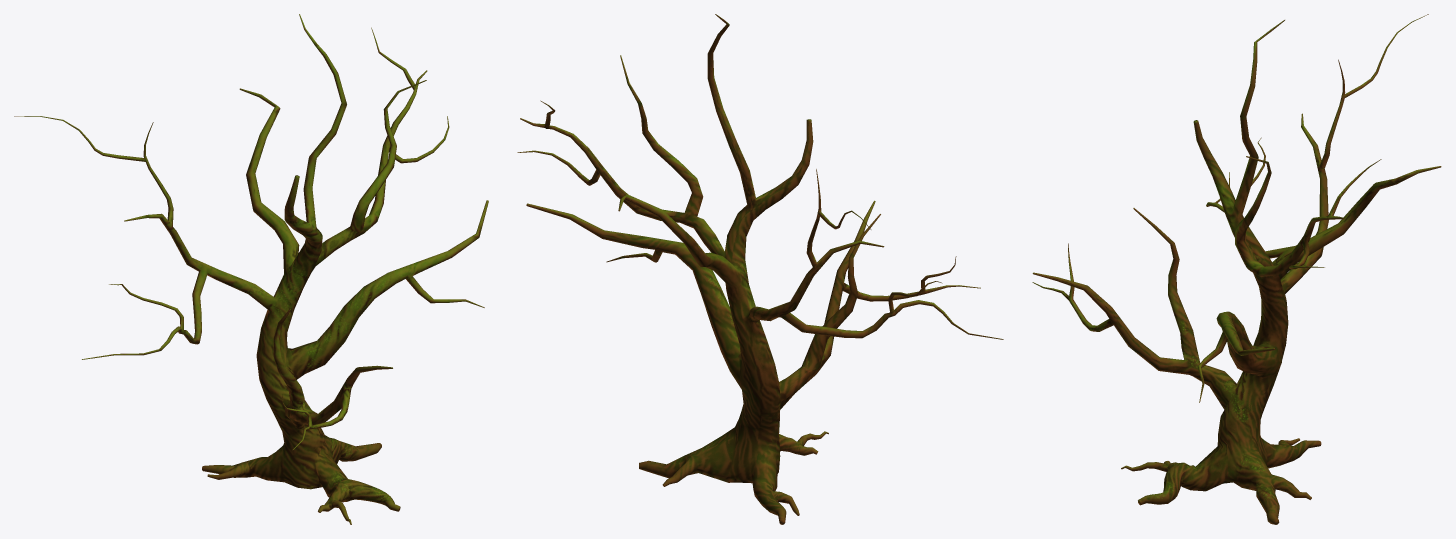
Rendered from troncoAlbero.fbx.
The picture shows the model from 3 angles, left to right: view 1: azimuth 30°, elevation 25°; view 2: azimuth 150°, elevation 25°; view 3: azimuth 270°, elevation 25°; orthographic projection. The views are drawn at different scales.
Parts seen in each view (by area): view 1: pPlane156_lambert1_0; view 2: pPlane156_lambert1_0; view 3: pPlane156_lambert1_0.
Boxes of the visible parts, <box> form: pPlane156_lambert1_0: <box>14,14,488,524</box>; pPlane156_lambert1_0: <box>517,14,1003,524</box>; pPlane156_lambert1_0: <box>1032,14,1441,524</box>.
Size of the model in its own units: 1019 by 1035 by 812.
